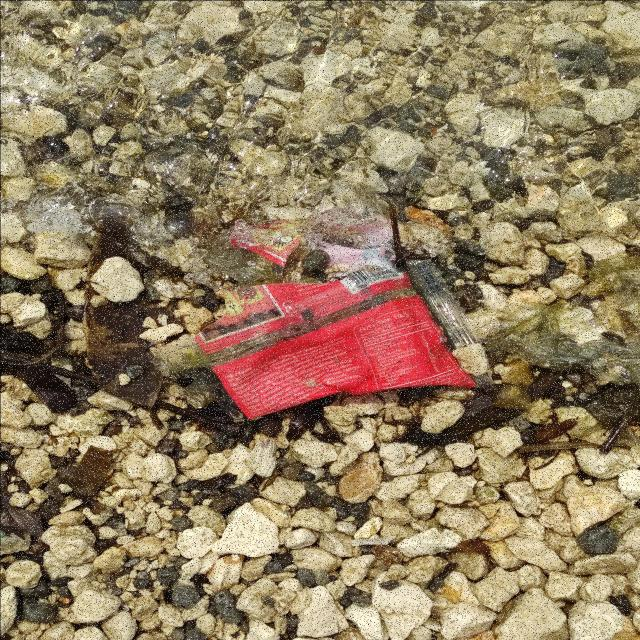plastic_waste: (152, 261, 499, 425)
